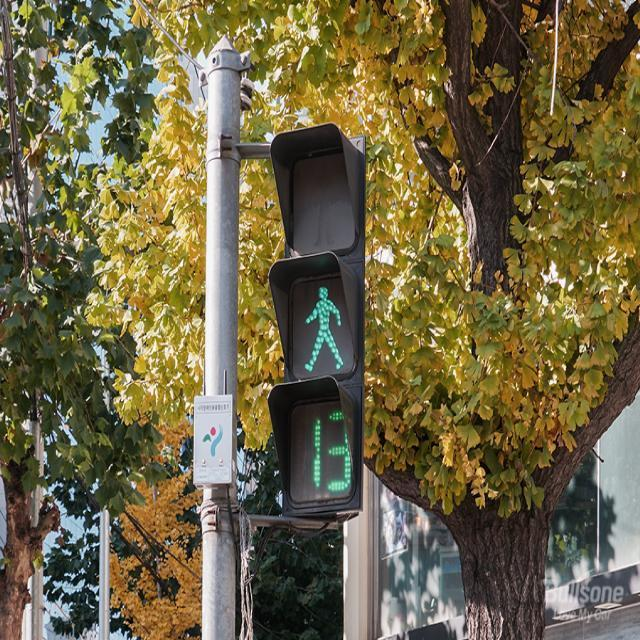green_light: (289, 278, 356, 504)
